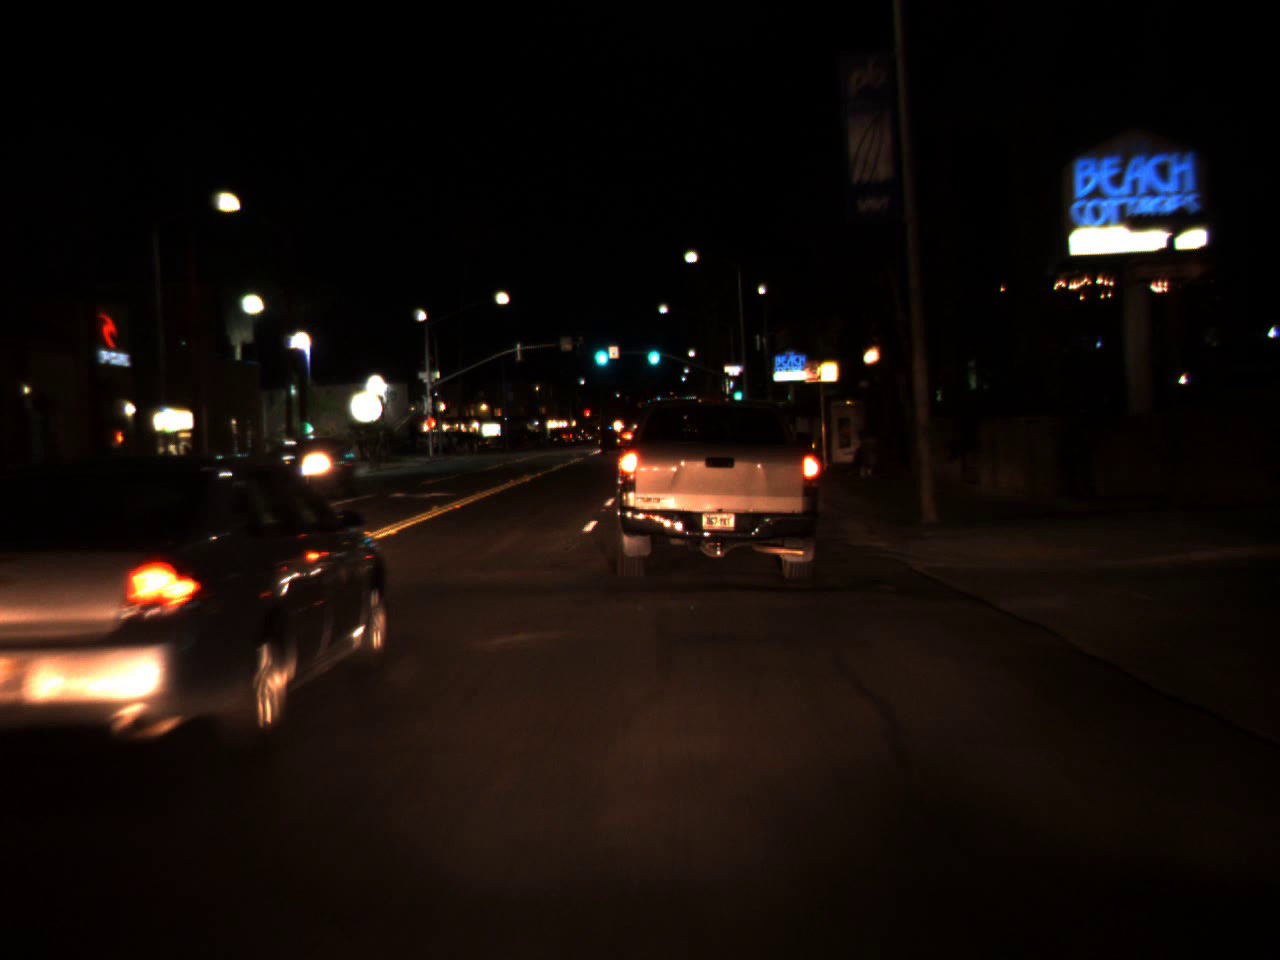go: (590, 330, 611, 372), (642, 334, 661, 370), (730, 380, 744, 404)
